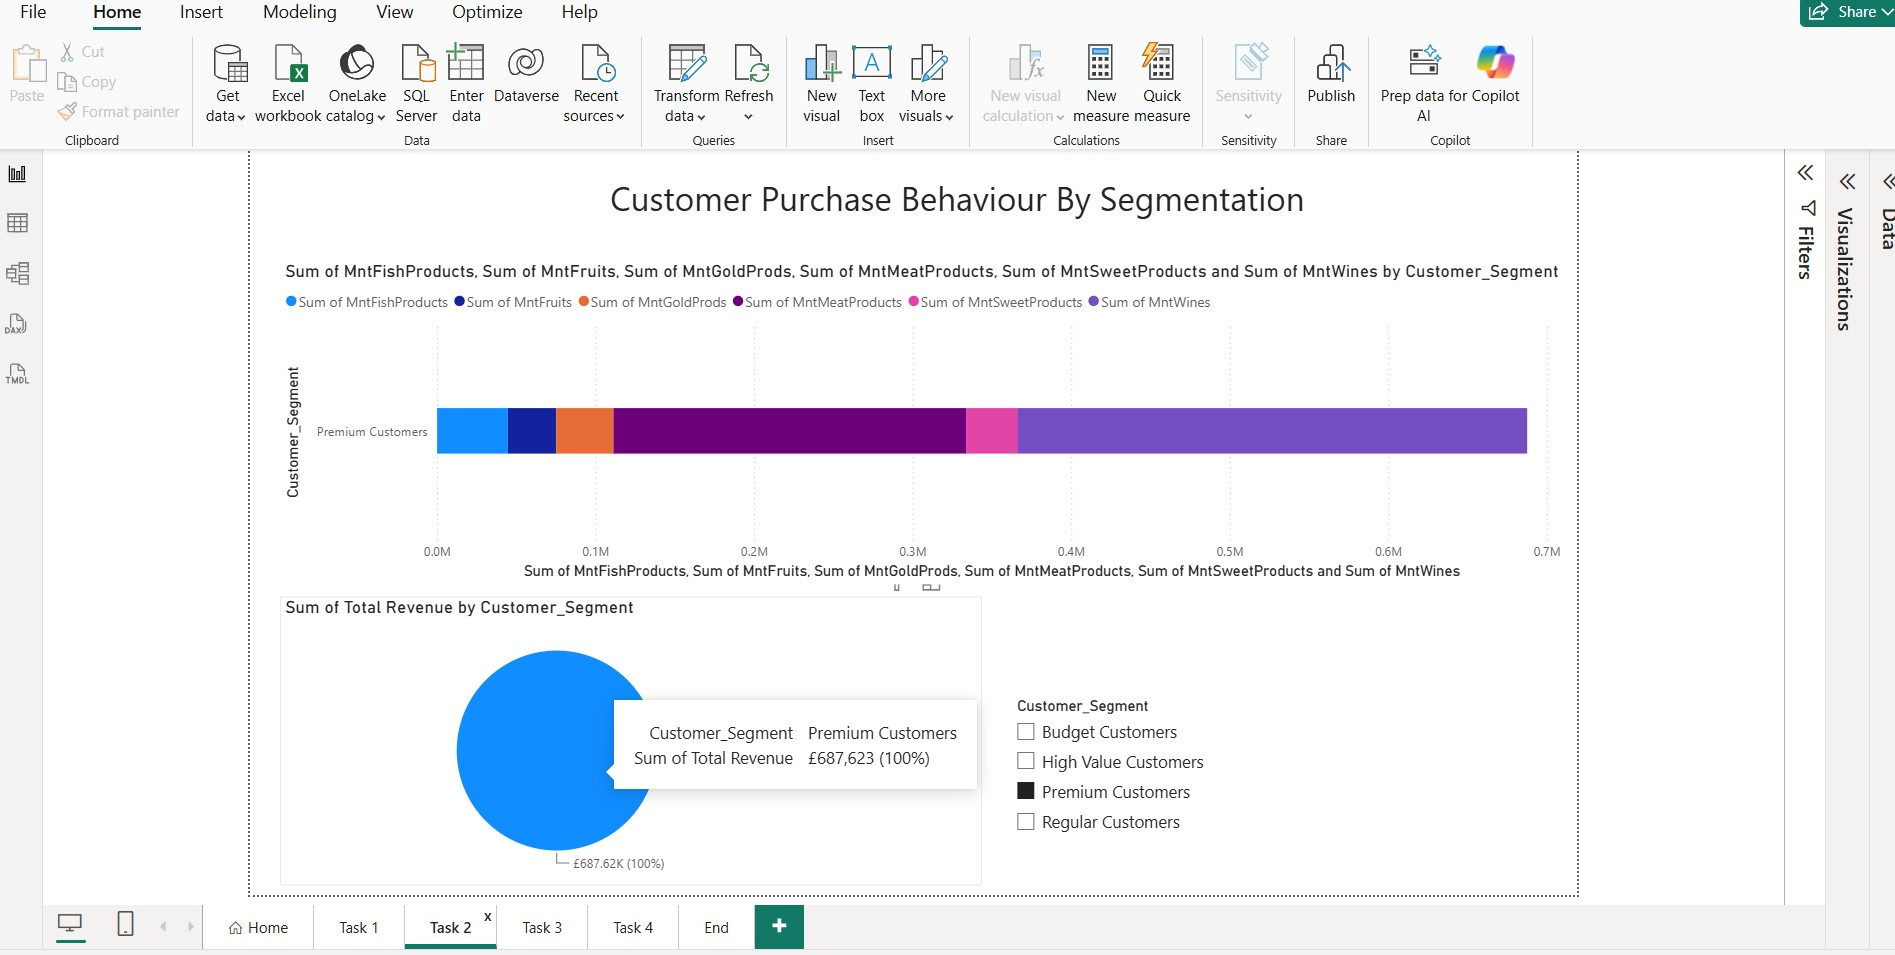

This screenshot's page, from the dashboard's own definition file:
{"tool":"powerbi","page":{"name":"Task 2","canvas":[1280,720],"ordinal":2},"visuals":[{"type":"pieChart","fields":{"Category":["marketing_campaign.Customer_Segment"],"Y":["Sum(marketing_campaign.Total_Revenue)"]},"box":[28.8,432.2,676.5,278.6],"z":0},{"type":"slicer","fields":{"Values":["marketing_campaign.Customer_Segment"]},"box":[734.1,517.3,219.6,172.9],"z":1000},{"type":"barChart","fields":{"Category":["marketing_campaign.Customer_Segment"],"Y":["Sum(marketing_campaign.MntFishProducts)","Sum(marketing_campaign.MntFruits)","Sum(marketing_campaign.MntGoldProds)","Sum(marketing_campaign.MntMeatProducts)","Sum(marketing_campaign.MntSweetProducts)","Sum(marketing_campaign.MntWines)"]},"box":[28.8,107,1241.9,312.9],"z":2000},{"type":"textbox","box":[343.1,20.6,743.7,56.3],"z":3000}]}

Visuals, with their boxes on the page's 1280x720 design canvas (x1, y1, x2, y2). These are canvas units, not pixel positions in the 1895x955 screenshot, which may show the page scaled, cropped or inside an application window:
pieChart - marketing_campaign.Customer_Segment x Sum(marketing_campaign.Total_Revenue): 29 432 705 711
slicer - marketing_campaign.Customer_Segment: 734 517 954 690
barChart - marketing_campaign.Customer_Segment x Sum(marketing_campaign.MntFishProducts): 29 107 1271 420
textbox: 343 21 1087 77
